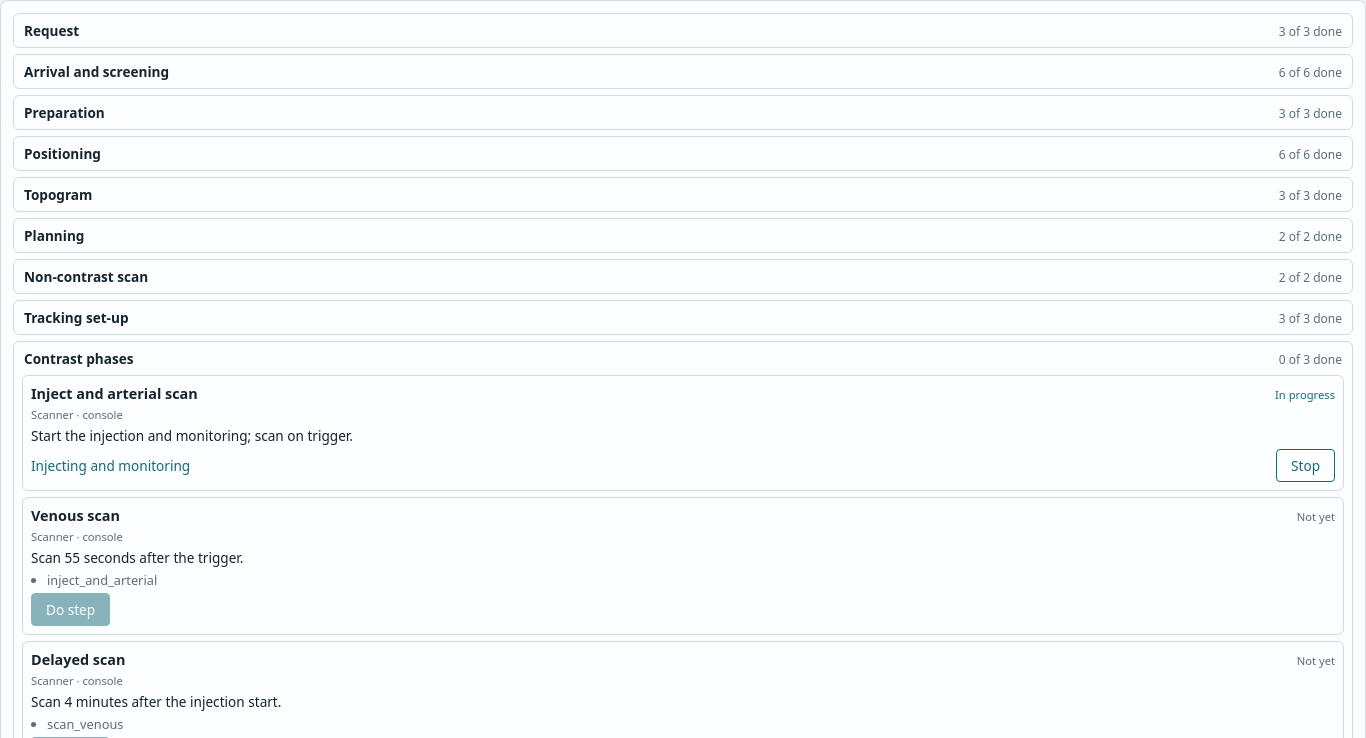
Scenario: ProcedurePanel › a header toggles its stage
Step 1. Click the button "Request 3 of 3 done" → [52, 30], box [14,14,1352,47]
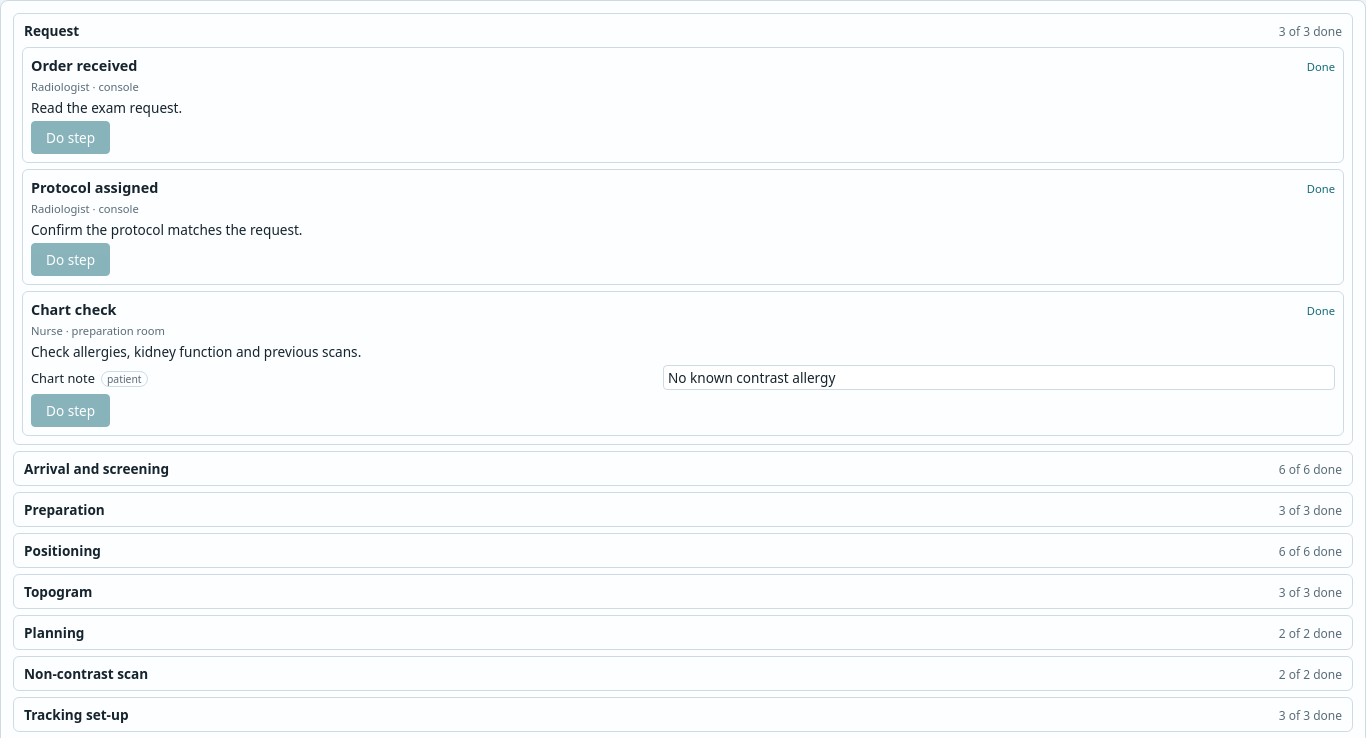
Result: the element that starts with "Order received" is shown at [22,47,1344,163]
